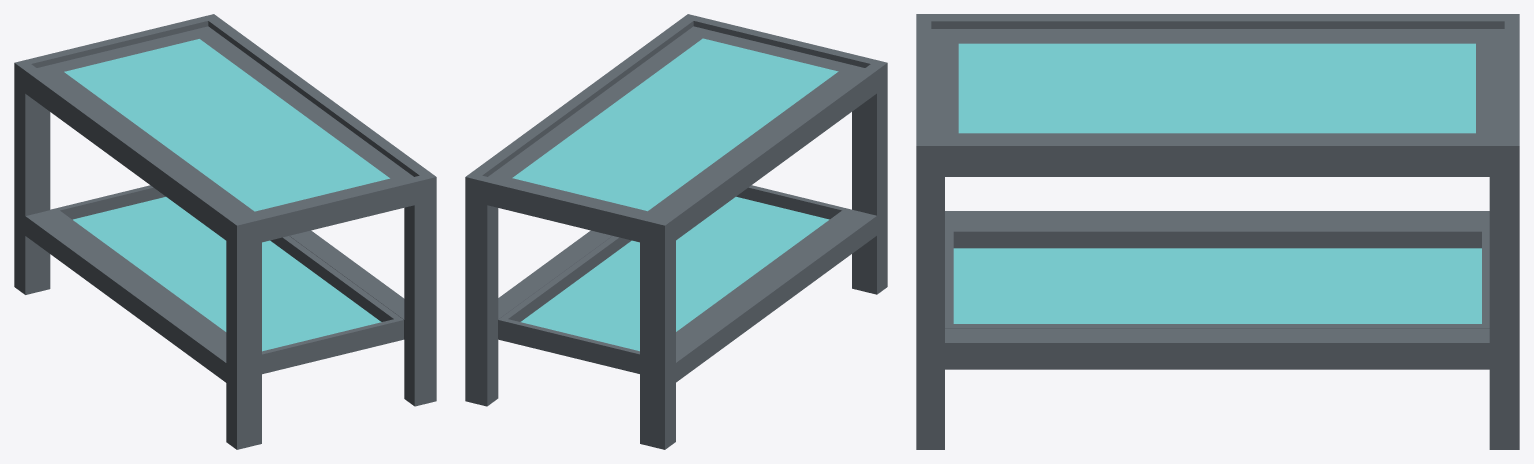
File: MesaQuirurgica.fbx
3 views of the same model, side by side, from view 1: azimuth 30°, elevation 25°; view 2: azimuth 150°, elevation 25°; view 3: azimuth 270°, elevation 25° (orthographic). The views are drawn at different scales.
Parts seen in each view (by area): view 1: Cube; view 2: Cube; view 3: Cube.
Boxes of the visible parts, x1,y1,x2,y2 form: Cube: (14,14,436,449); Cube: (465,14,887,449); Cube: (916,14,1519,449).
Bounding box in the file's own units: 200 × 215 × 386.
